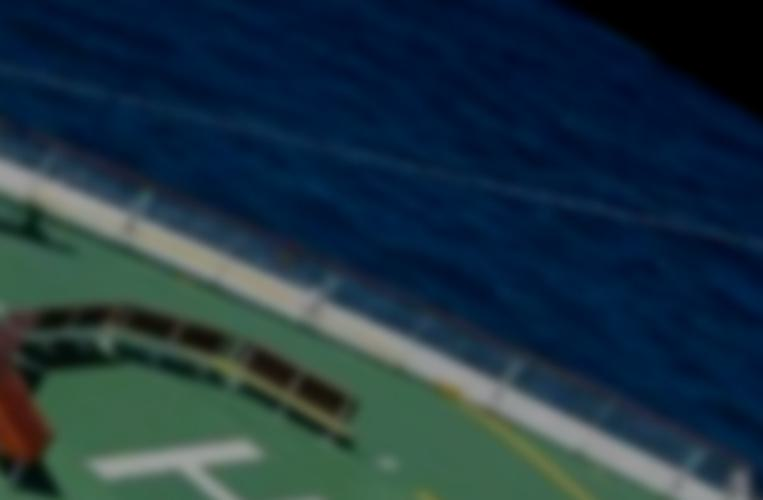Apron: (93, 311, 606, 500)
